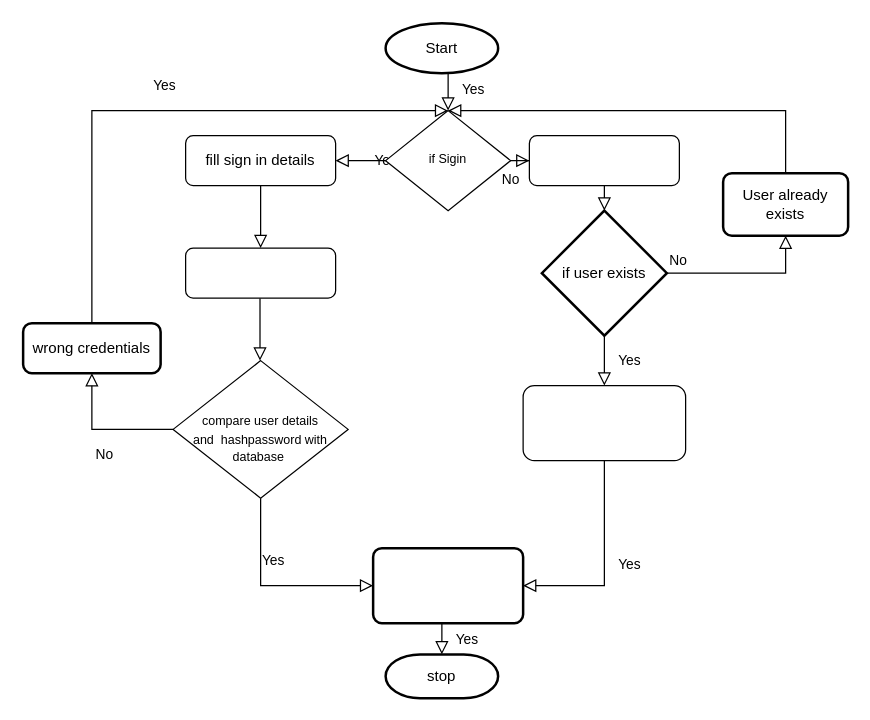
This 870x720 diagram has some shape labels left out. Each missing label, with the centre of its shape:
"fill sign up details" goes at [603,160].
"hash password" goes at [260,272].
"redirect to selection page" goes at [447,585].
"Store user details and hash password in database" goes at [604,422].
